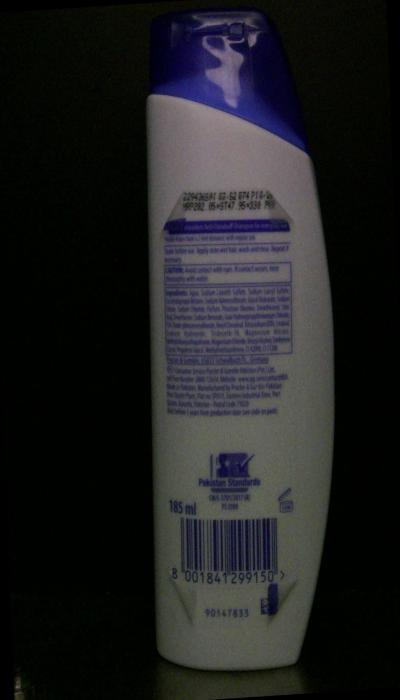adhesion_unacc: (167, 566, 202, 630), (266, 574, 301, 627), (157, 192, 190, 241), (264, 187, 298, 233)
